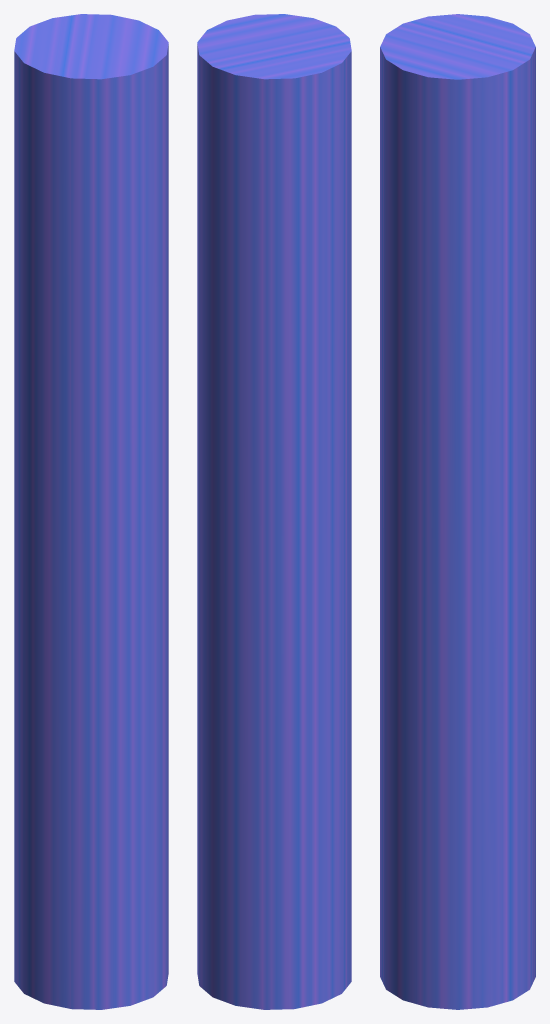
File: Pipe.glb
The picture shows the model from 3 angles, left to right: view 1: azimuth 30°, elevation 25°; view 2: azimuth 150°, elevation 25°; view 3: azimuth 270°, elevation 25°; orthographic projection.
Parts seen in each view (by area): view 1: Cylinder; view 2: Cylinder; view 3: Cylinder.
Part boxes in pixels (<box>): Cylinder: <box>14,14,168,1009</box>; Cylinder: <box>197,14,351,1009</box>; Cylinder: <box>380,14,535,1009</box>.
Size of the model in its own units: 0.1517 by 1 by 0.1517.
1 material, 1 textured.
